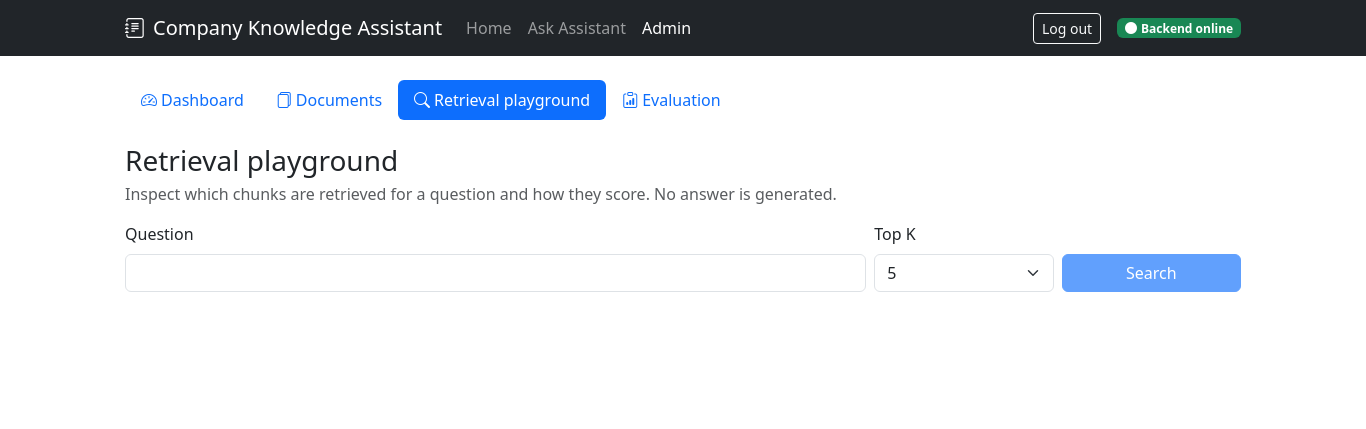
it: admin panel › retrieval playground › shows an empty state and an error state
Type "x" into the field labelled "Question" at (496, 273), box top-left (125, 254), bottom-right (866, 292)
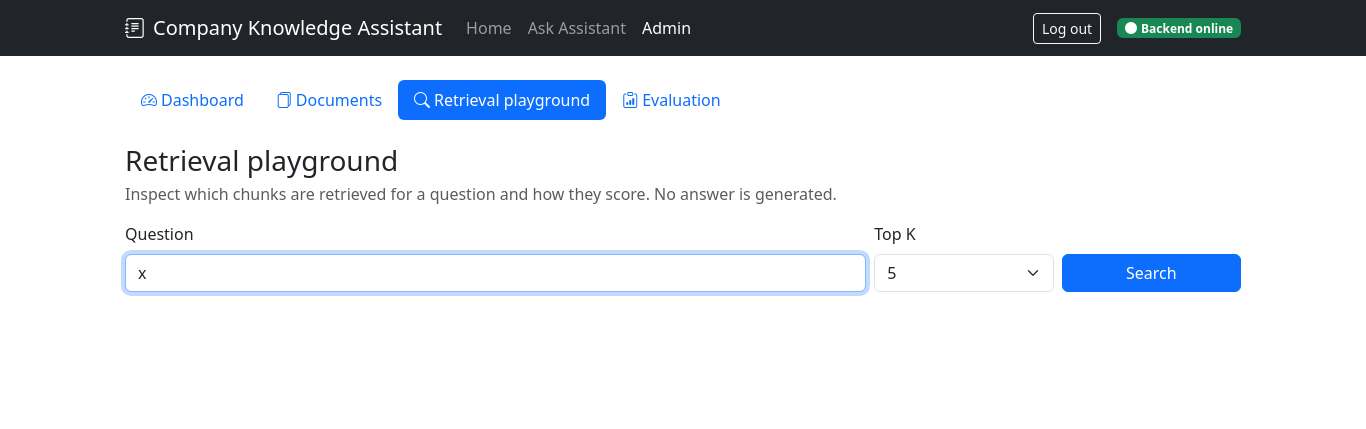
Click the button "Search" at (1151, 273), box top-left (1062, 254), bottom-right (1241, 292)
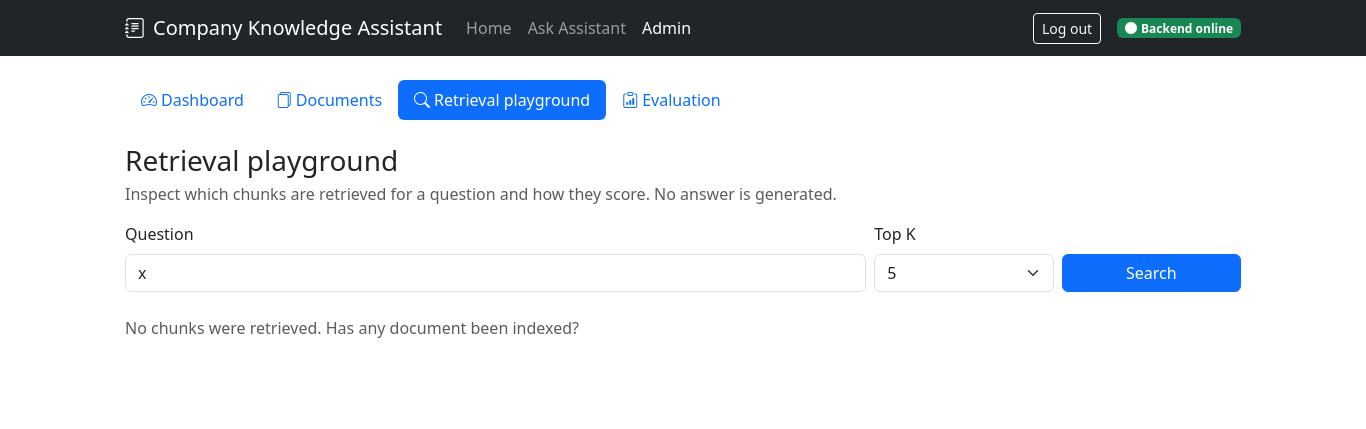
Now the text "No chunks were retrieved. Has any document been indexed?" is shown, box top-left (125, 317), bottom-right (579, 339)
Click the button "Search" at (1151, 273), box top-left (1062, 254), bottom-right (1241, 292)
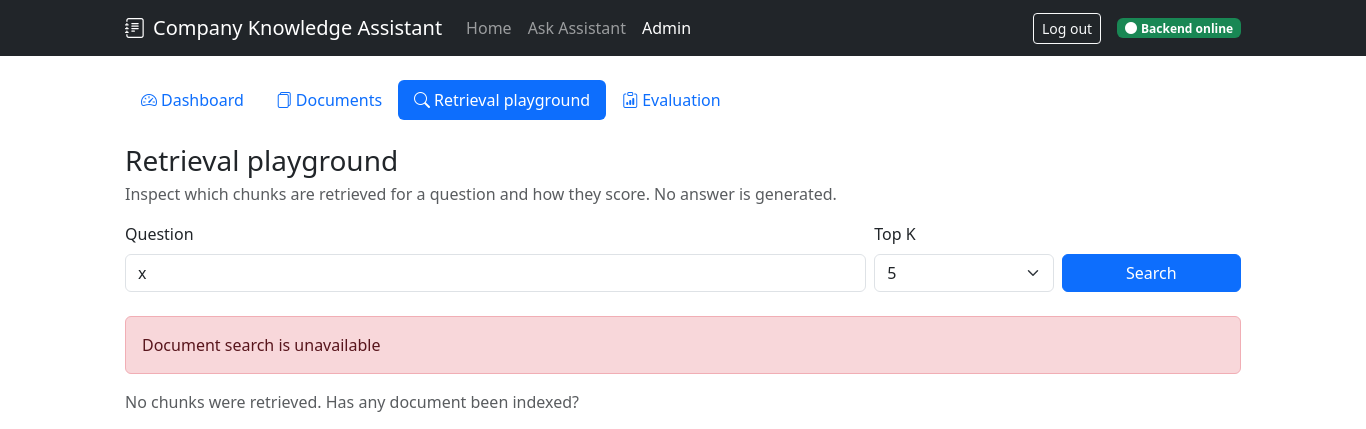
Now the message "Document search is unavailable" is shown, box top-left (125, 316), bottom-right (1241, 374)
